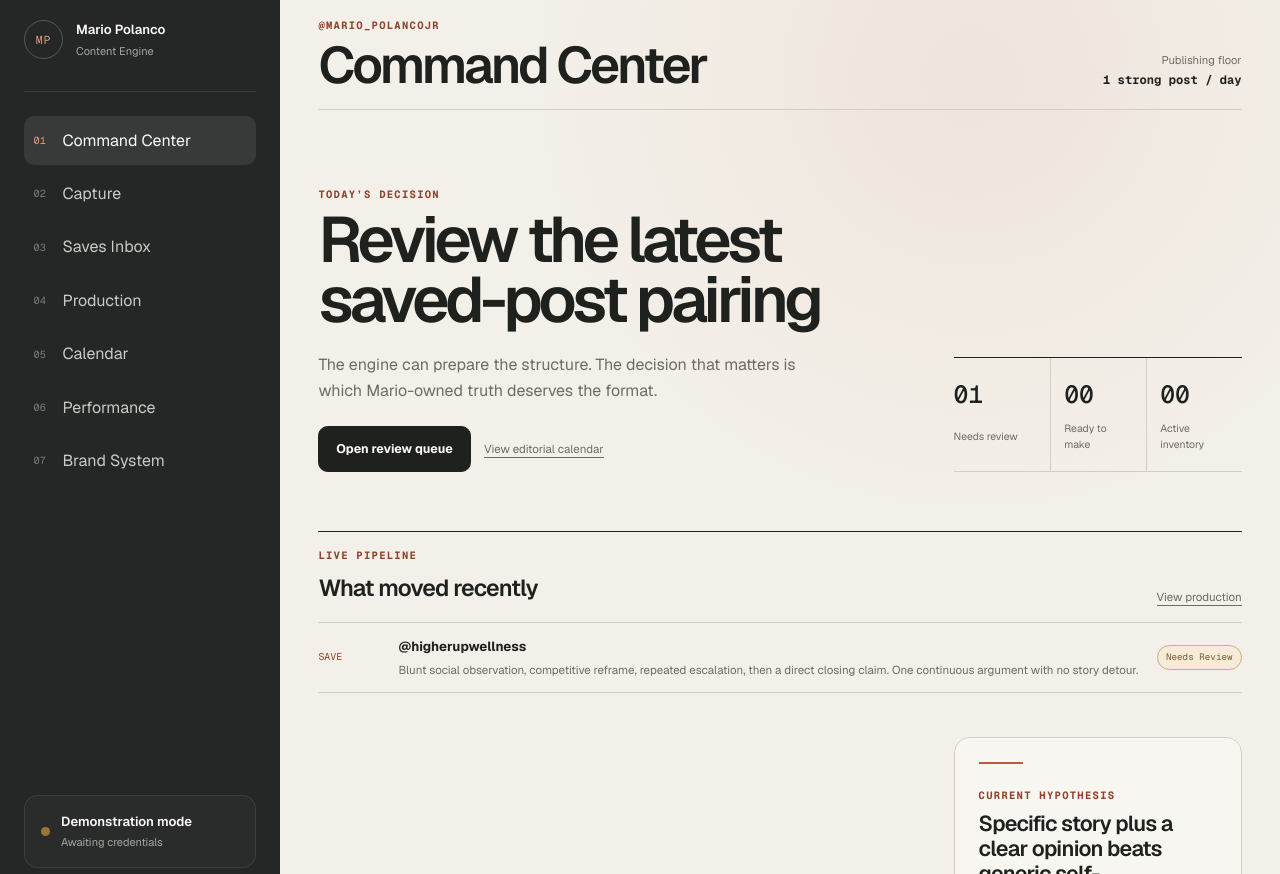
Test: Live brand source inventory › starts source capture with a raw brain dump and corrected defaults in review
Click the button "02 Capture". click: (140, 194)
box: [24,170,256,218]
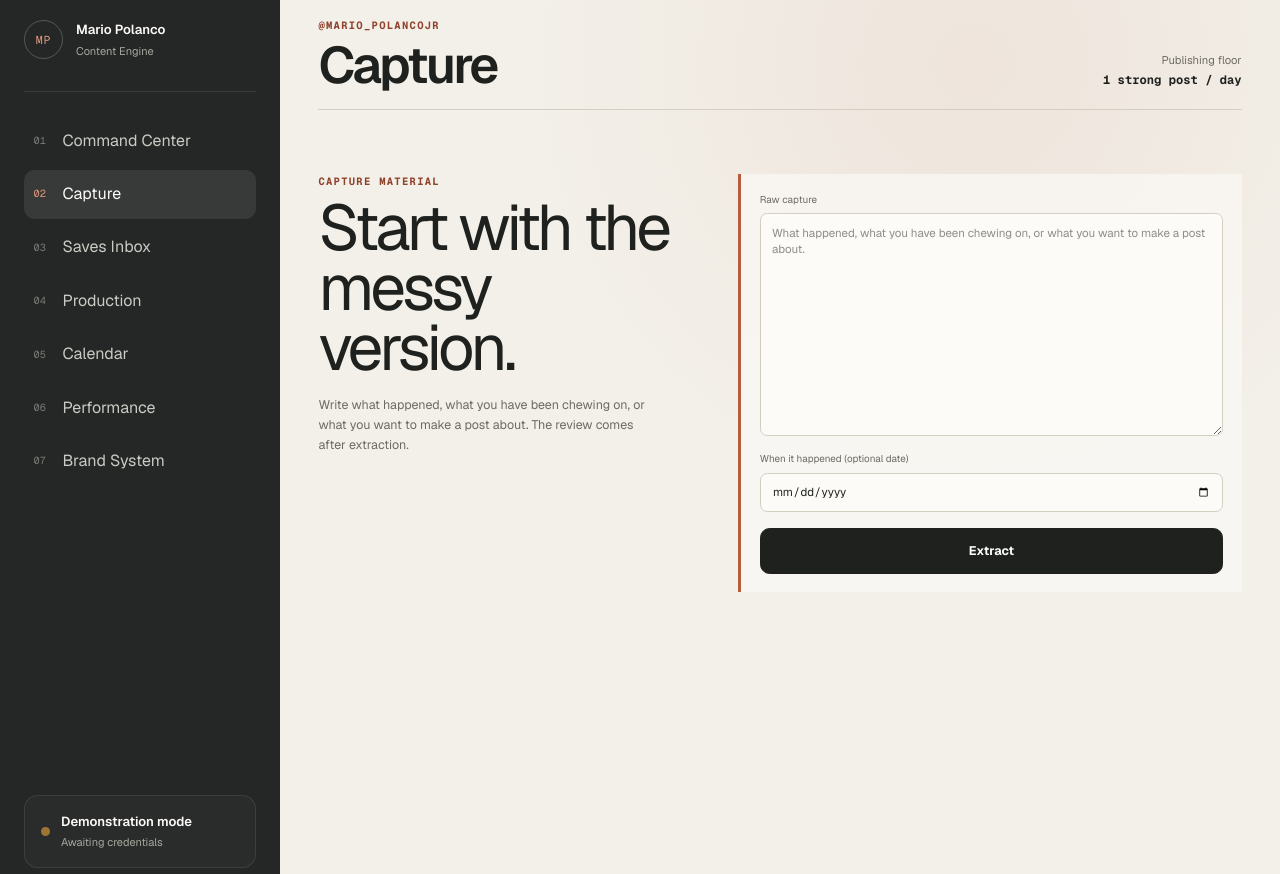
Expected: the field labelled "Title" is not shown
Expected: the text box named "Raw source" is shown
Replace the text in the text box named "Raw source" with "The raw source.". click: (991, 325)
box: [760,213,1223,436]
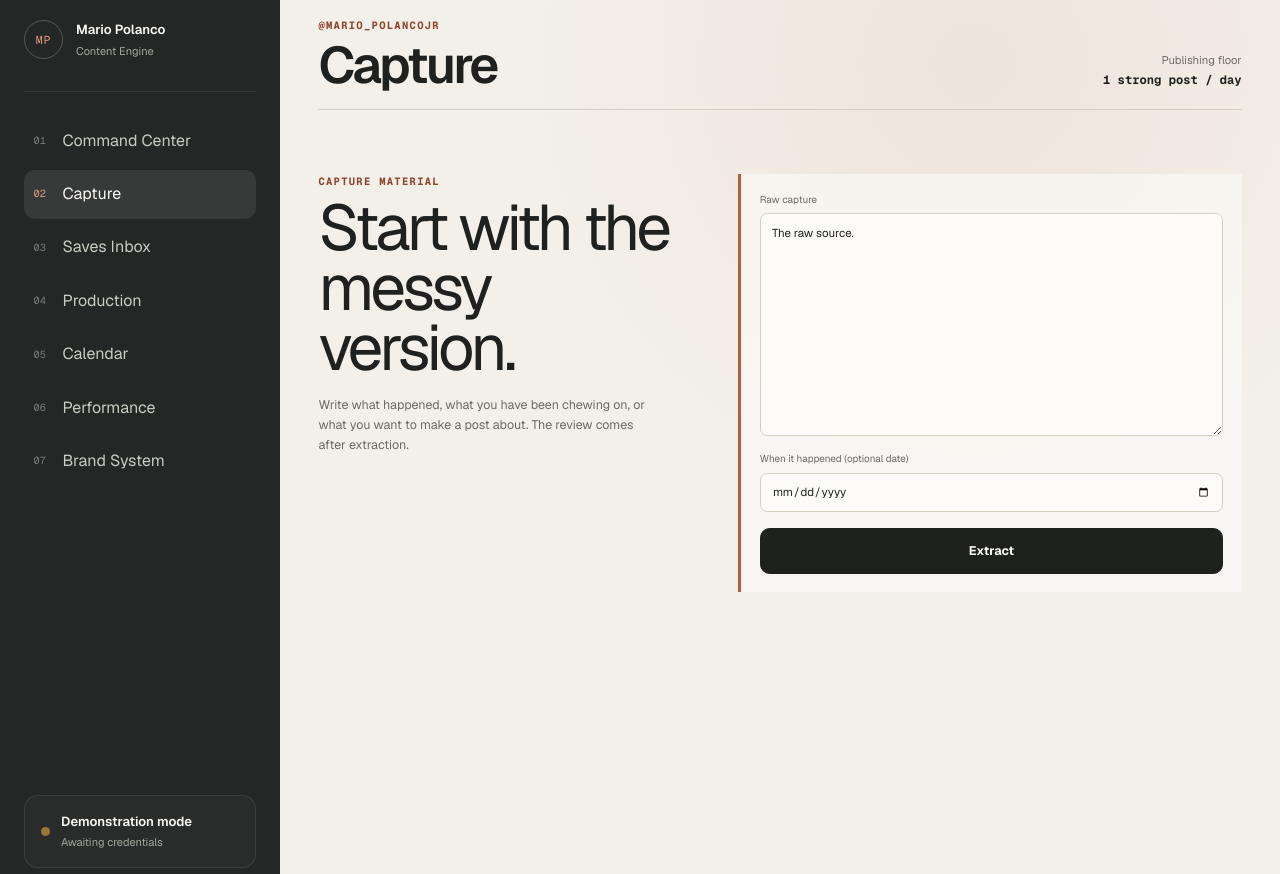
Click the button "Extract". click: (991, 551)
box: [760,528,1223,574]
(page scrolled)
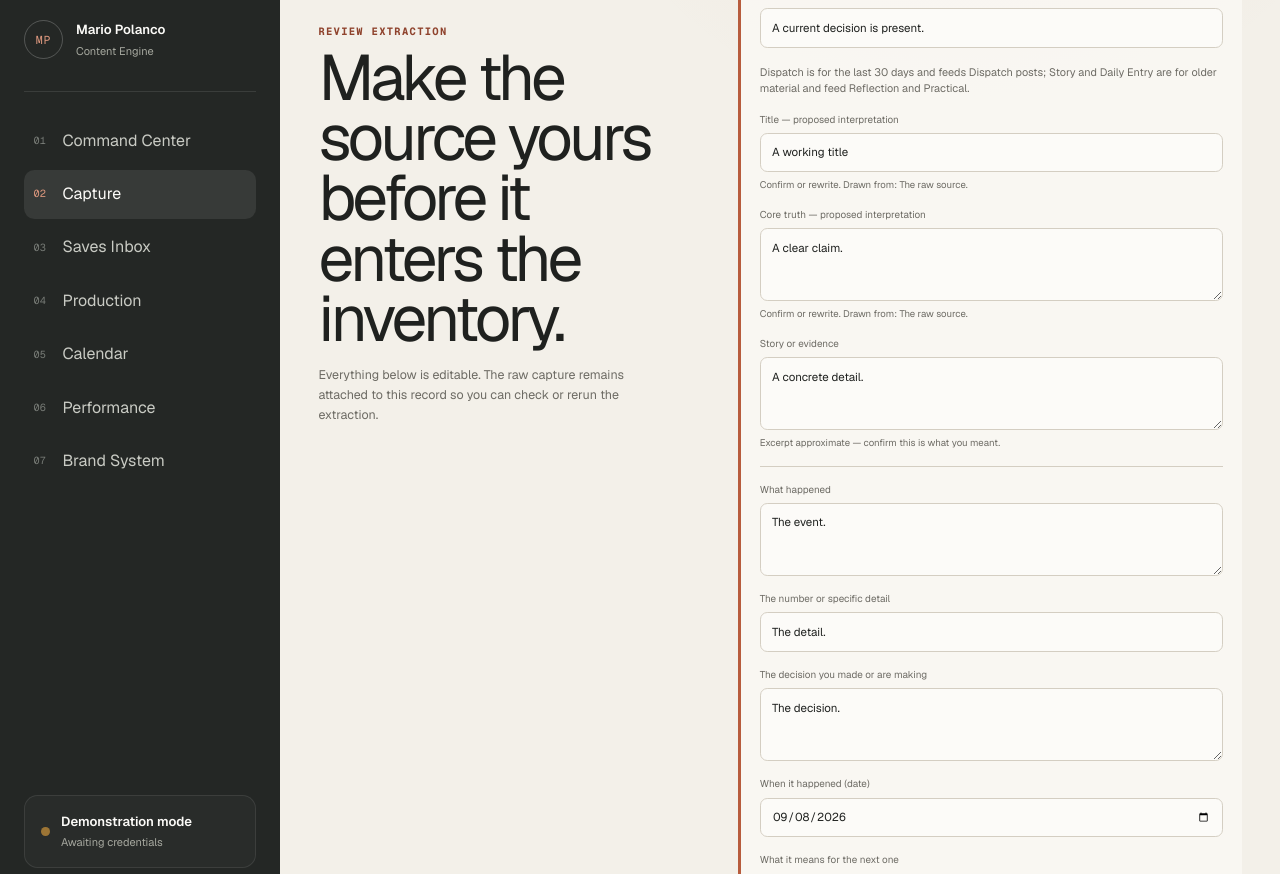
Expected: the text box labelled "What happened" is shown, [760,503,1223,576]
Expected: the field labelled "The number or specific detail" is shown, [760,612,1223,652]
Expected: the text box labelled "The decision you made or are making" is shown, [760,688,1223,761]
